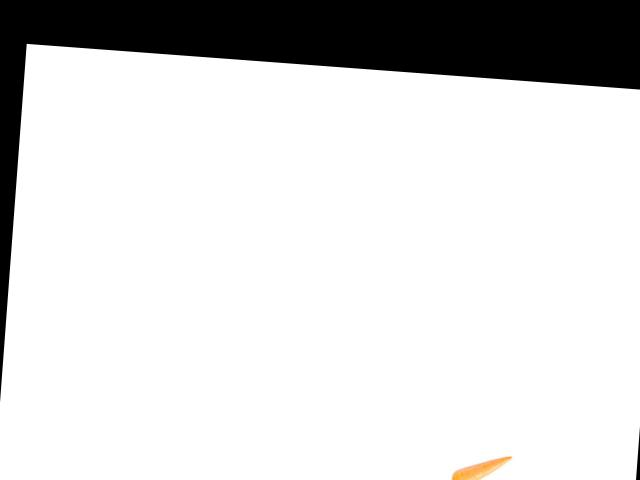carrot: (443, 447, 515, 480)
